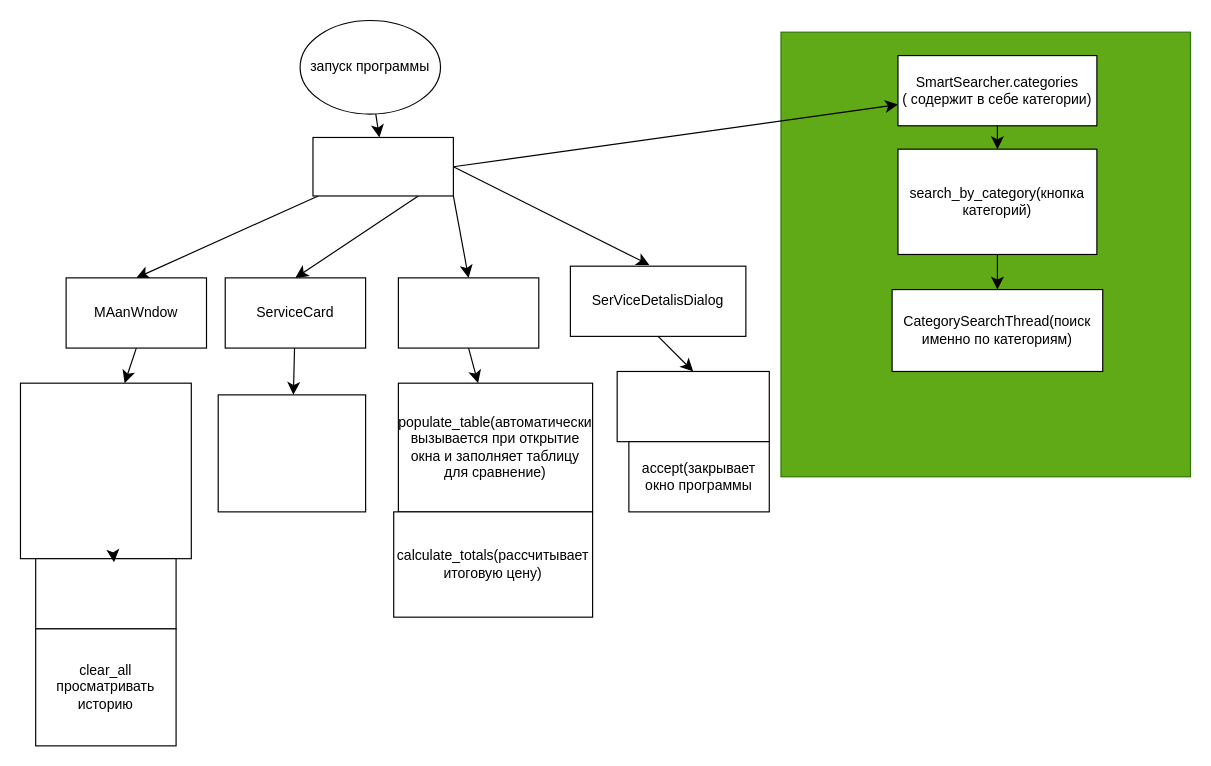
The diagram is 1211 pixels wide and 766 high, and some of its shapes have lost their labels. Each missing label, with the centre of its shape:
__init__ (создает интерфейс и принимает объекты): the point at 692,406
ComparisonDialog: the point at 468,312
QFrame для каждого тарифа QLabe1 (название тарифа,цены и особенности): the point at 291,453
set_example(примеры) вставляет в поисковую строку пример и запускает поиск: the point at 105,470
start_search запускает поиск: the point at 105,593
левое меню: the point at 382,166
